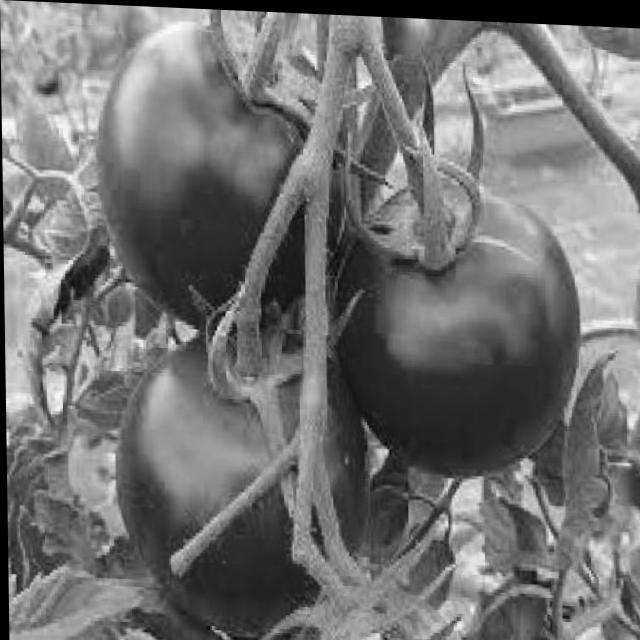kirmizi: (103, 40, 592, 640)
